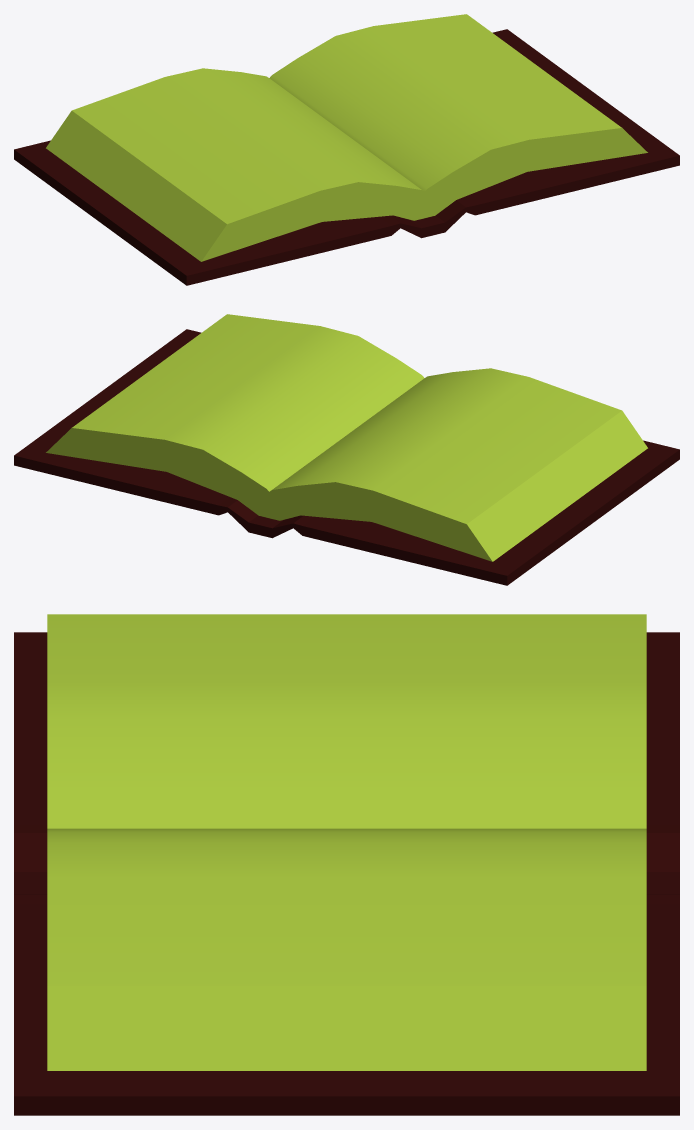
Rendered from openBook.obj.
3 renders of one model, top to bottom at view 1: azimuth 30°, elevation 25°; view 2: azimuth 150°, elevation 25°; view 3: azimuth 270°, elevation 25°, orthographic. The views are drawn at different scales.
Parts seen in each view (by area): view 1: Book_Open_Cube.002; view 2: Book_Open_Cube.002; view 3: Book_Open_Cube.002.
Boxes of the visible parts, x1=… form: Book_Open_Cube.002: x1=14, y1=14, x2=679, y2=285; Book_Open_Cube.002: x1=14, y1=314, x2=679, y2=585; Book_Open_Cube.002: x1=14, y1=614, x2=679, y2=1115.
Bounding box in the file's own units: 1.26 × 0.156 × 0.7662.
